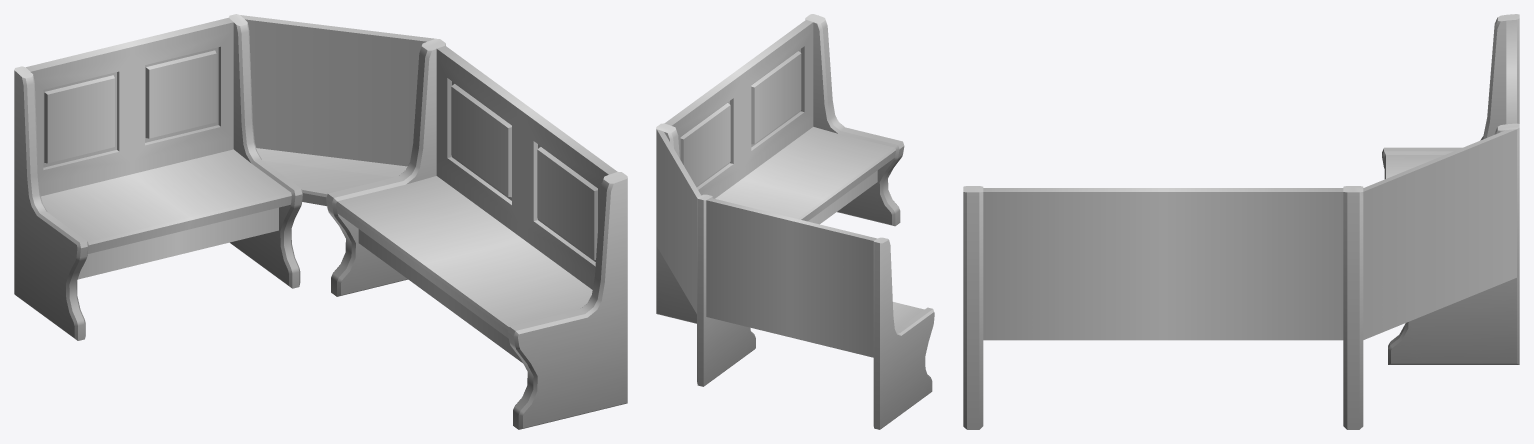
File: BreakfastBench.fbx
The picture shows the model from 3 angles, left to right: view 1: azimuth 30°, elevation 25°; view 2: azimuth 150°, elevation 25°; view 3: azimuth 270°, elevation 25°; orthographic projection. The views are drawn at different scales.
Visible parts, largest first — view 1: Bench; view 2: Bench; view 3: Bench.
Boxes of the visible parts, bbox=[...] form: Bench: bbox=[14, 14, 627, 429]; Bench: bbox=[656, 14, 934, 429]; Bench: bbox=[963, 14, 1519, 429].
Size of the model in its own units: 4.29 by 2.66 by 5.64.
